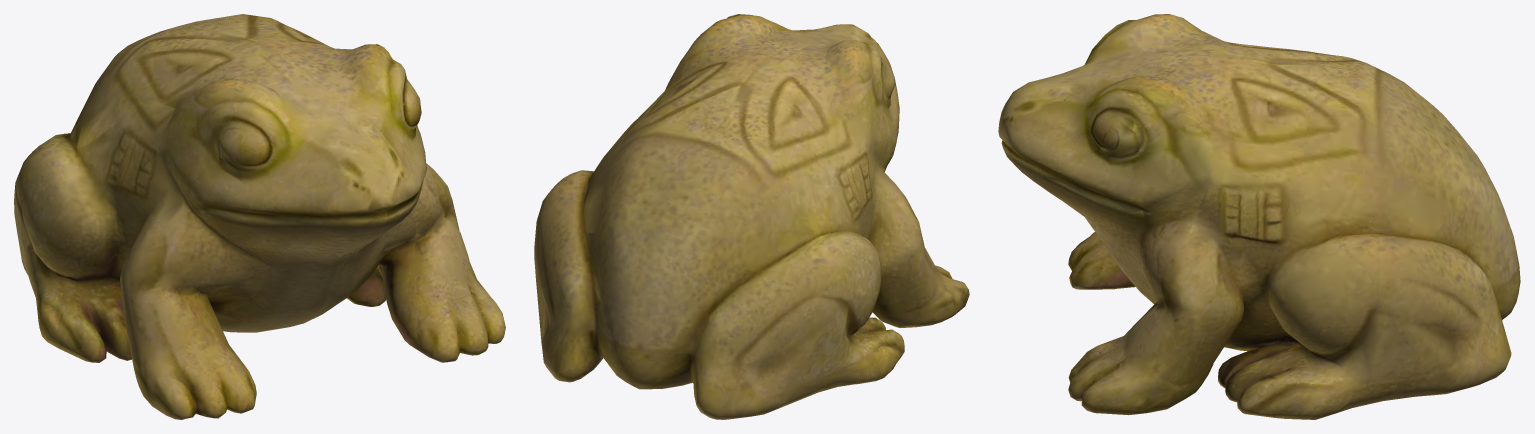
The model's file is pr_toad.glb.
3 views of the same model, side by side, from view 1: azimuth 30°, elevation 25°; view 2: azimuth 150°, elevation 25°; view 3: azimuth 270°, elevation 25° (orthographic). The views are drawn at different scales.
Size of the model in its own units: 1.62 by 1.22 by 2.
1 material, 1 textured.
